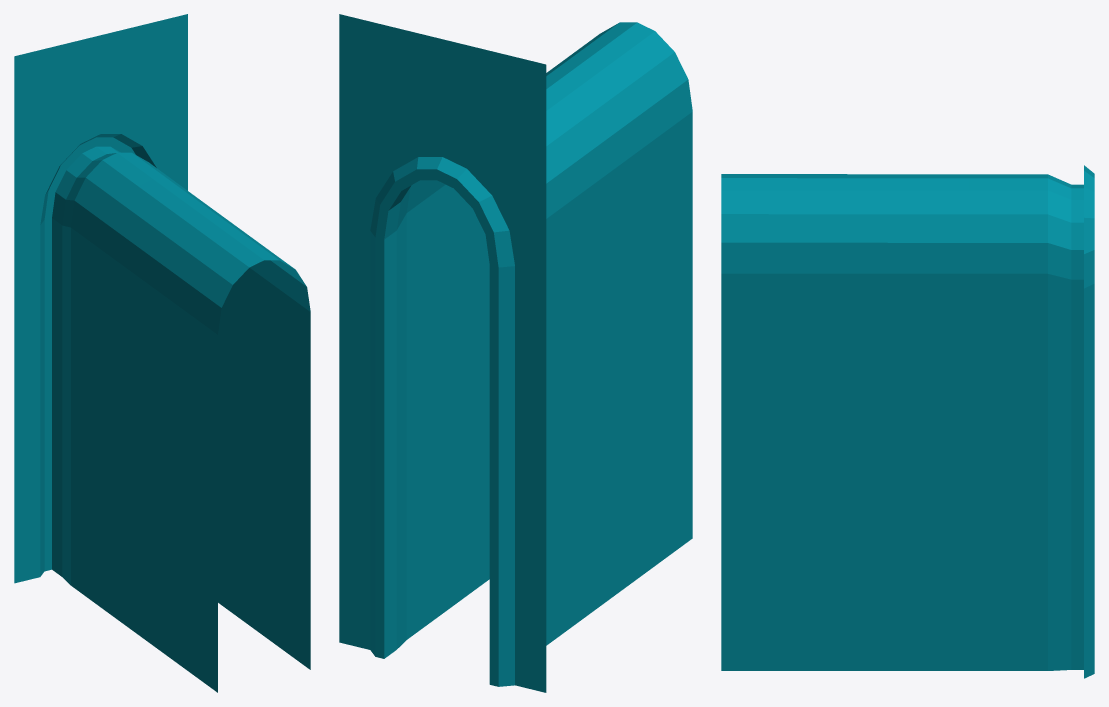
Rendered from Arch_modul.fbx.
The picture shows the model from 3 angles, left to right: view 1: azimuth 30°, elevation 25°; view 2: azimuth 150°, elevation 25°; view 3: azimuth 270°, elevation 25°; orthographic projection. The views are drawn at different scales.
Parts seen in each view (by area): view 1: Arch_Modul; view 2: Arch_Modul; view 3: Arch_Modul.
Part boxes in pixels (x1,y1,x2,y2): Arch_Modul: (14, 14, 310, 692); Arch_Modul: (339, 14, 692, 692); Arch_Modul: (721, 165, 1094, 678).
Size of the model in its own units: 0.6623 by 1.92 by 1.11.
